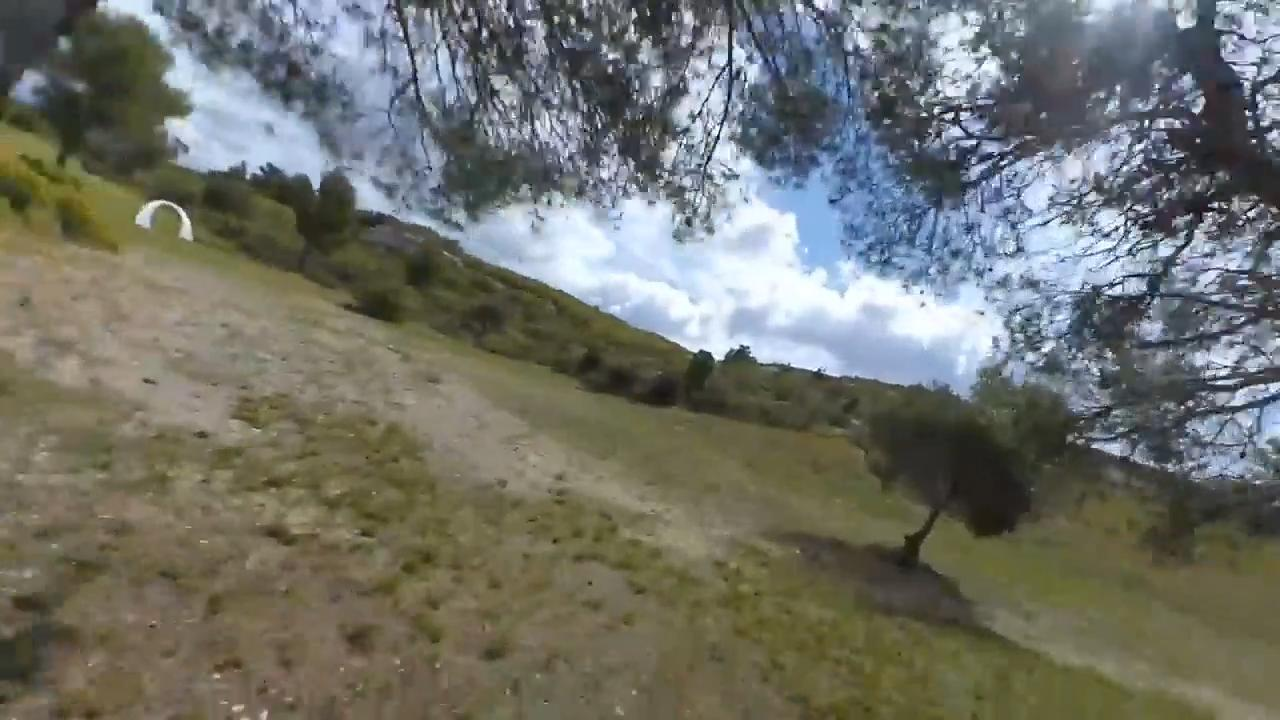gate: (132, 198, 194, 244)
